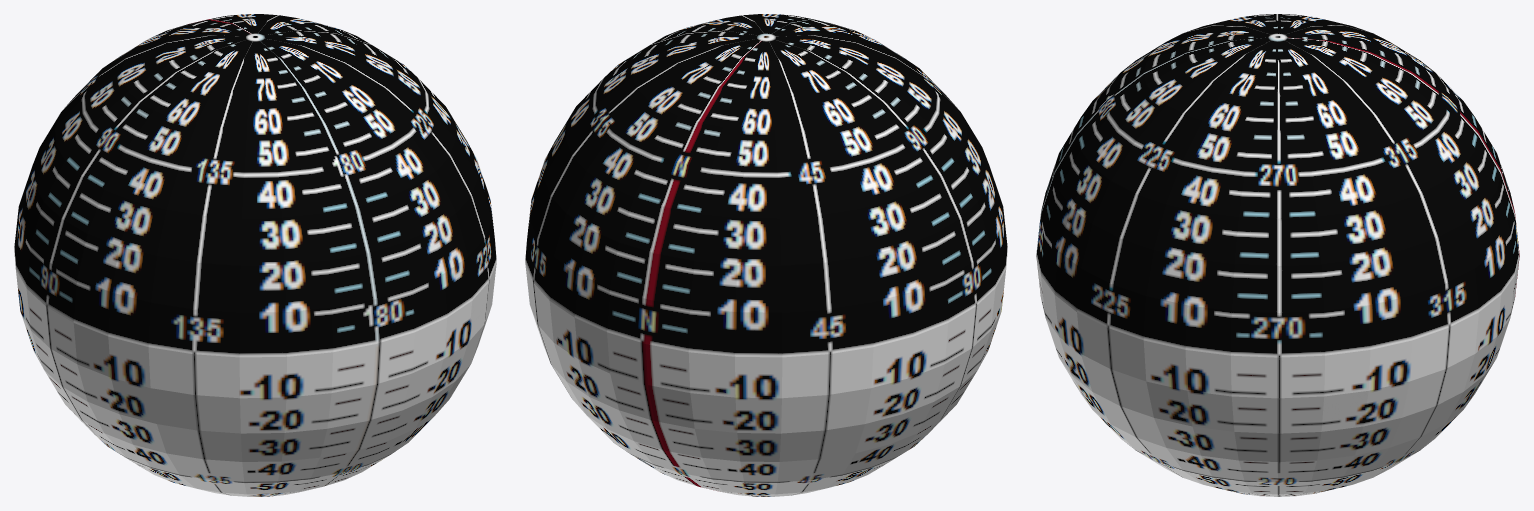
The model's file is navball.obj.
The picture shows the model from 3 angles, left to right: view 1: azimuth 30°, elevation 25°; view 2: azimuth 150°, elevation 25°; view 3: azimuth 270°, elevation 25°; orthographic projection.
Visible parts, largest first — view 1: Sphere; view 2: Sphere; view 3: Sphere.
Part boxes in pixels (x1,y1,x2,y2): Sphere: [14, 14, 496, 496]; Sphere: [525, 14, 1007, 496]; Sphere: [1036, 14, 1519, 496].
Bounding box in the file's own units: 2 × 1.98 × 2.
1 material, 1 textured.
